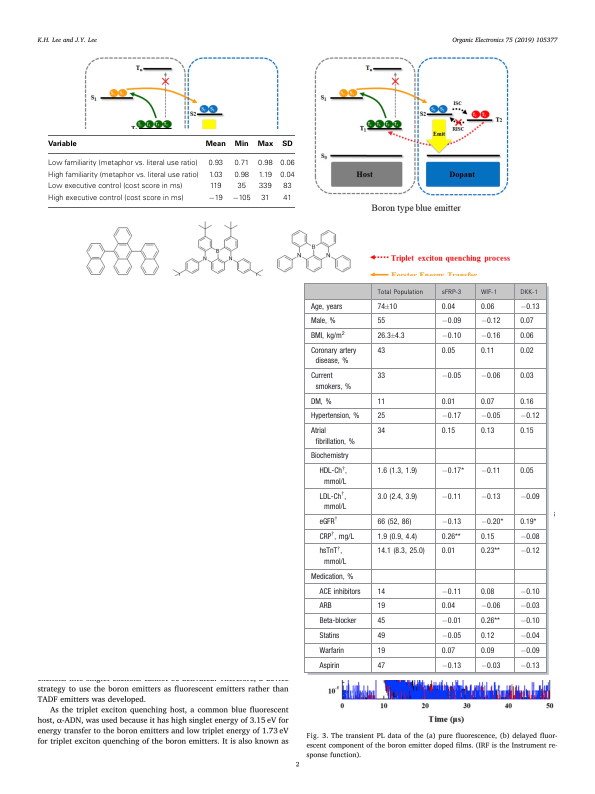bordered: (304, 281, 546, 672)
borderless: (47, 134, 295, 208)
cell: (46, 171, 199, 180), (46, 159, 198, 168), (46, 194, 184, 203), (46, 182, 183, 191), (309, 347, 357, 366), (309, 427, 355, 446), (309, 372, 352, 392), (318, 465, 347, 487), (318, 491, 347, 512), (318, 546, 347, 567), (309, 412, 360, 421), (376, 547, 425, 556), (309, 572, 354, 581), (309, 330, 345, 341), (318, 587, 361, 596), (376, 467, 418, 476), (376, 492, 418, 501), (376, 532, 418, 541), (376, 289, 423, 297), (309, 452, 349, 461), (376, 517, 412, 527), (318, 531, 354, 541), (318, 617, 357, 626), (309, 302, 343, 311), (376, 332, 405, 341), (479, 517, 504, 527), (46, 140, 77, 148), (309, 317, 336, 326), (318, 646, 345, 655), (318, 516, 338, 527), (440, 517, 462, 527), (318, 631, 340, 641), (440, 631, 462, 641), (440, 467, 464, 476), (519, 631, 540, 641), (309, 397, 332, 406), (376, 302, 398, 311), (440, 317, 462, 326), (479, 317, 501, 326), (440, 332, 462, 341), (479, 332, 501, 341), (440, 372, 462, 381), (479, 372, 501, 381), (440, 412, 462, 421), (479, 412, 501, 421), (479, 467, 501, 476), (440, 492, 462, 501), (479, 492, 501, 501), (440, 587, 462, 596), (479, 602, 501, 611), (440, 617, 462, 626), (318, 661, 340, 670), (440, 661, 462, 670), (479, 661, 501, 670), (519, 302, 540, 311), (519, 412, 540, 421), (519, 492, 540, 501), (440, 532, 461, 541), (519, 532, 540, 541), (479, 547, 500, 556), (519, 547, 540, 556), (519, 587, 540, 596), (519, 602, 540, 611), (479, 617, 500, 626), (519, 617, 540, 626), (519, 646, 540, 655), (519, 661, 540, 670), (519, 517, 537, 527), (231, 194, 251, 203), (440, 289, 462, 297), (204, 140, 226, 148), (479, 631, 495, 641), (256, 159, 273, 168), (519, 289, 538, 297), (479, 289, 497, 297), (440, 302, 456, 311), (479, 302, 495, 311), (440, 347, 456, 356), (479, 347, 495, 356), (440, 397, 456, 406), (479, 397, 495, 406), (440, 427, 456, 436), (479, 427, 495, 436), (479, 532, 495, 541), (440, 547, 456, 556), (479, 587, 495, 596), (440, 602, 456, 611), (440, 646, 456, 655), (479, 646, 495, 655), (207, 159, 223, 168), (233, 159, 249, 168), (279, 159, 295, 168), (207, 171, 223, 180), (233, 171, 249, 180), (279, 171, 295, 180), (207, 194, 223, 203), (256, 140, 273, 148), (519, 317, 534, 326), (519, 332, 534, 341), (519, 347, 534, 356), (519, 372, 534, 381), (519, 397, 534, 406), (519, 427, 534, 436), (519, 467, 534, 476), (257, 171, 272, 180), (257, 182, 272, 191), (233, 140, 249, 148), (318, 602, 332, 611), (208, 182, 222, 191), (376, 631, 386, 641), (281, 140, 293, 148), (376, 317, 386, 326), (376, 347, 386, 356), (376, 372, 386, 381), (376, 397, 386, 406), (376, 412, 386, 421), (376, 427, 386, 436), (376, 587, 386, 596), (376, 602, 386, 611), (376, 617, 386, 626), (376, 646, 386, 655), (376, 661, 386, 670), (236, 182, 246, 191), (282, 182, 292, 191), (260, 194, 270, 203), (282, 194, 292, 203)
